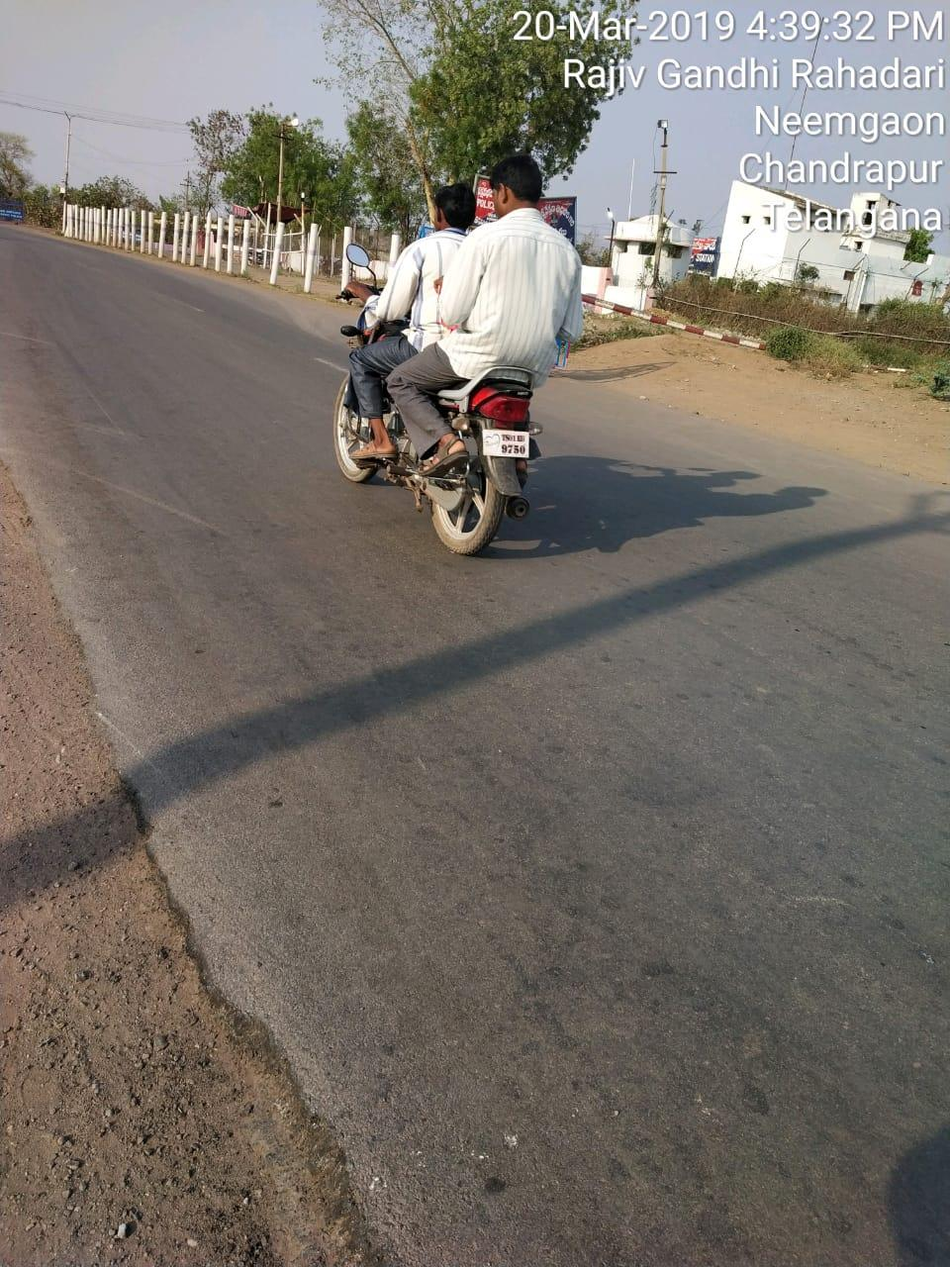plate: (478, 426, 535, 466)
